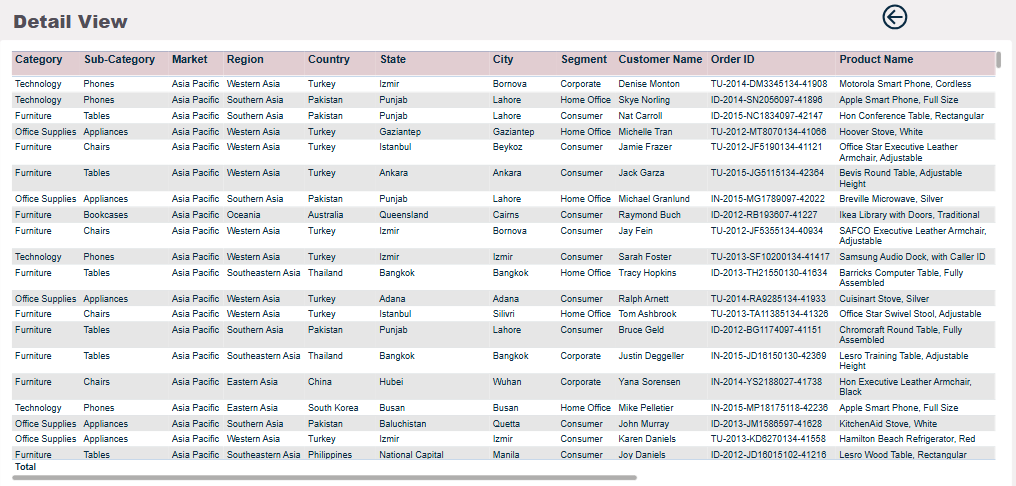

This screenshot's page, from the dashboard's own definition file:
{"tool":"powerbi","page":{"name":"Detail View","canvas":[1500,720],"ordinal":2},"visuals":[{"type":"textbox","box":[18.4,0,821.1,60.2],"z":0},{"type":"tableEx","fields":{"Values":["Orders.Category","Orders.Sub-Category","Orders.Market","Orders.Region","Orders.Country","Orders.State","Orders.City","Orders.Segment","Orders.Customer Name","Orders.Order ID","Orders.Product Name","Orders.Order Date"]},"box":[0,60.8,1481.1,659.9],"z":1000},{"type":"actionButton","box":[1282,0,57.1,55.6],"z":2000}]}

Visuals, with their boxes in screenshot pixels (x1, y1, x2, y2), scaled from the page's 1500x720 canvas onto the 1016x486 screenshot:
textbox: 12 0 569 41
tableEx - Orders.Category x Orders.Sub-Category: 0 41 1003 485
actionButton: 868 0 907 38
